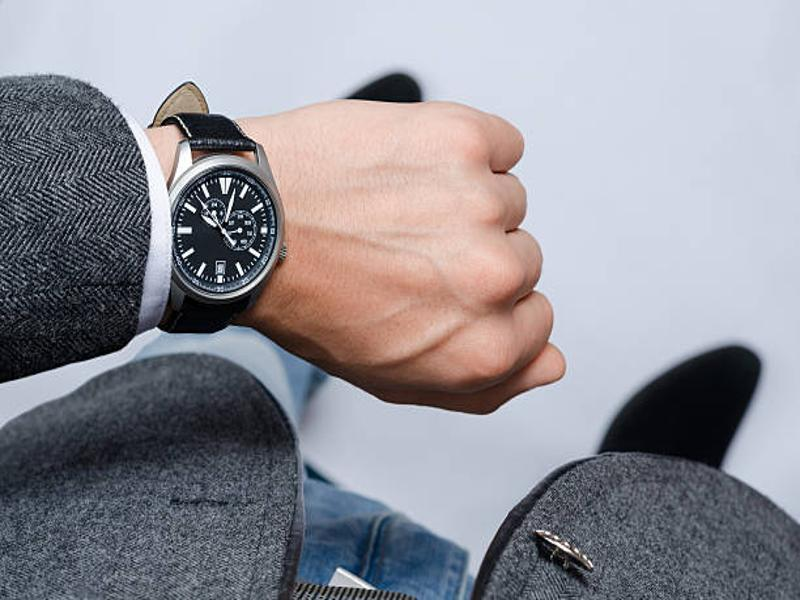watch: (139, 75, 291, 334)
